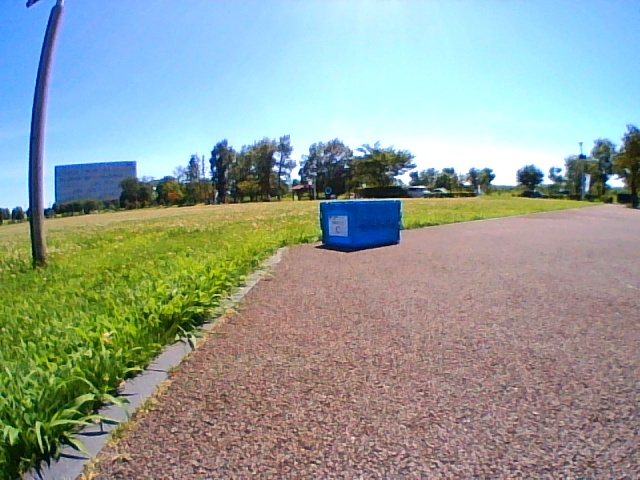blue_box: (320, 200, 401, 246)
tag_c: (329, 216, 347, 235)
